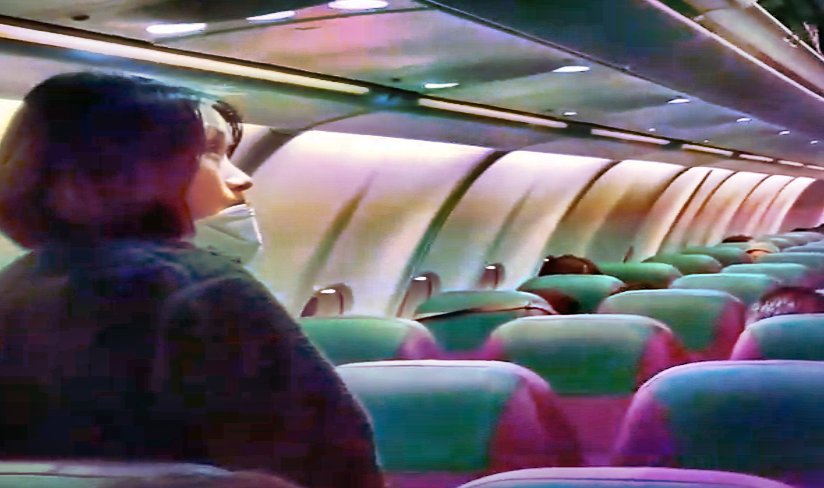mask_weared_incorrect: (96, 68, 267, 265)
